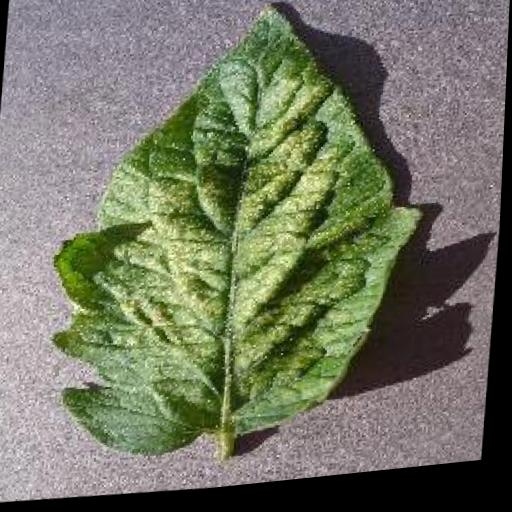Spider Mites: (44, 0, 440, 480)
